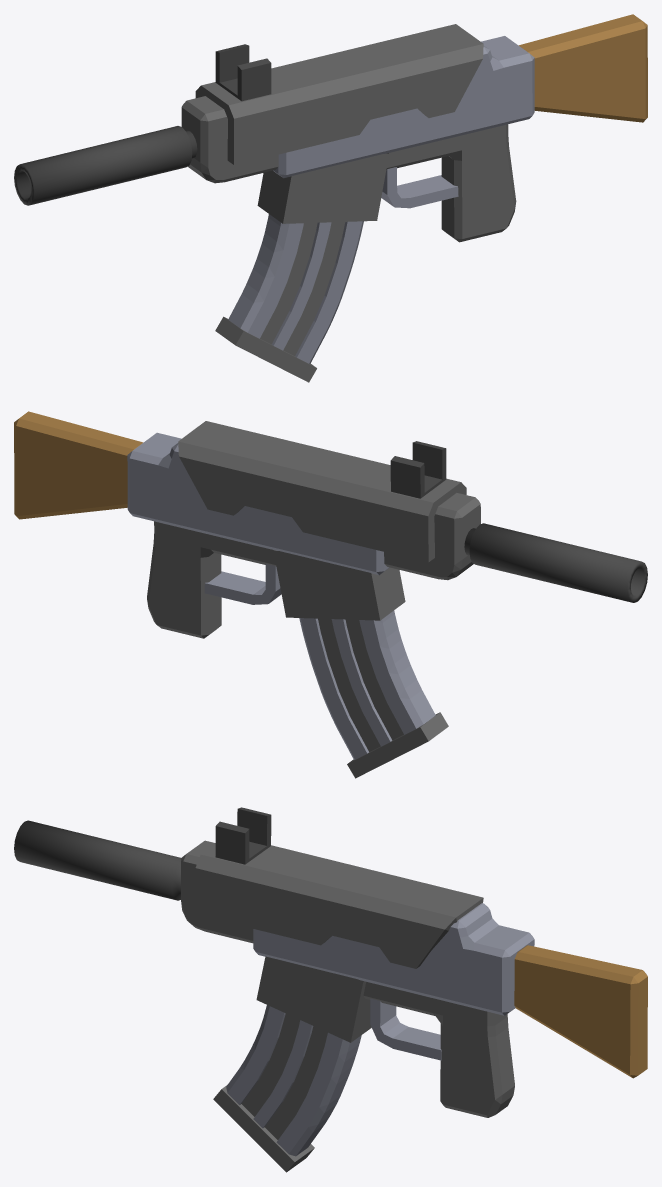
The model's file is quaternius-toon-shooter-game-ak.glb.
The picture shows the model from 3 angles, top to bottom: view 1: azimuth 30°, elevation 25°; view 2: azimuth 150°, elevation 25°; view 3: azimuth 330°, elevation 25°; orthographic projection.
Visible parts, largest first — view 1: AK; view 2: AK; view 3: AK.
Boxes of the visible parts, box(x1,y1,x2,y2) form: AK: box(14, 14, 647, 382); AK: box(14, 411, 647, 778); AK: box(14, 807, 647, 1172).
Size of the model in its own units: 1.42 by 0.7304 by 0.1537.
